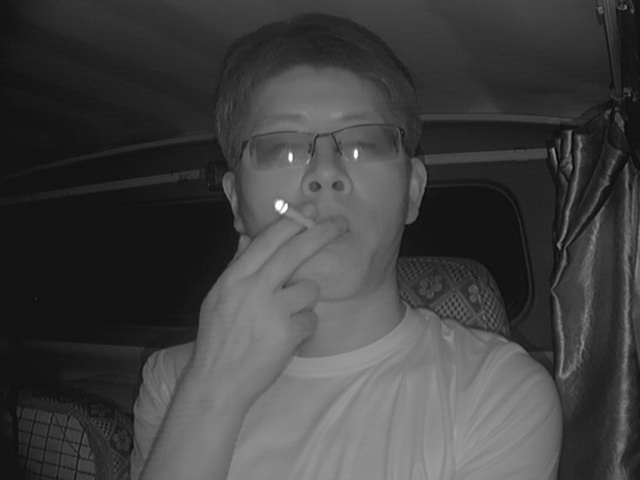hand: (232, 202, 338, 340)
